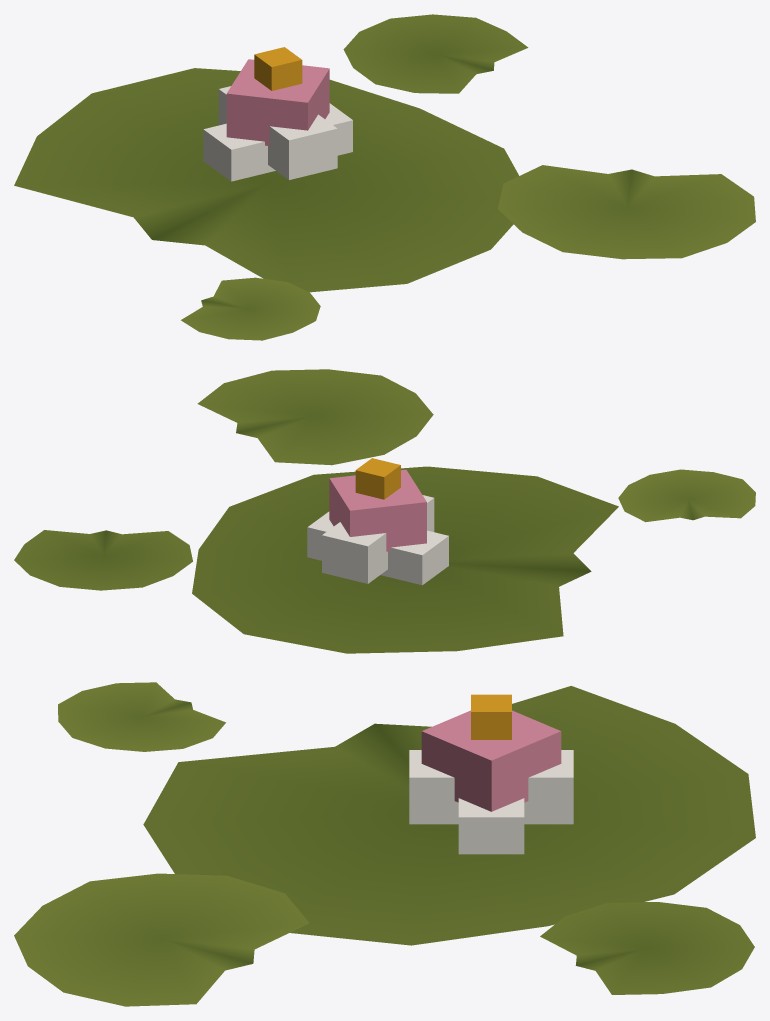
The model's file is lilypad.glb.
The picture shows the model from 3 angles, top to bottom: view 1: azimuth 30°, elevation 25°; view 2: azimuth 150°, elevation 25°; view 3: azimuth 270°, elevation 25°; orthographic projection. The views are drawn at different scales.
Parts seen in each view (by area): view 1: lilypad; view 2: lilypad; view 3: lilypad.
Boxes of the visible parts, x1,y1,x2,y2 form: lilypad: (14, 14, 755, 340); lilypad: (14, 369, 755, 653); lilypad: (14, 682, 755, 1006).
Bounding box in the file's own units: 1.47 × 0.2907 × 1.44.
